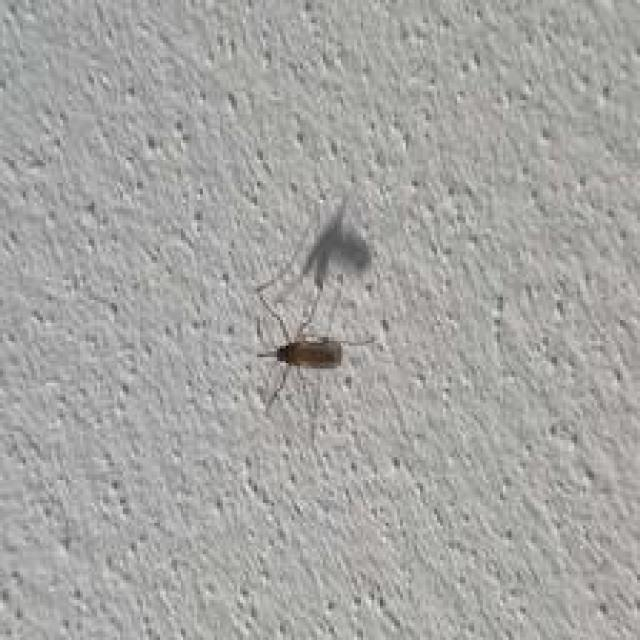Culex: (250, 195, 381, 418)
